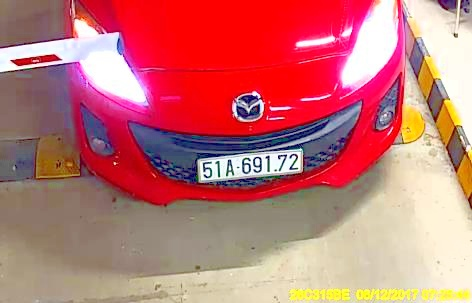plate: (195, 147, 307, 184)
